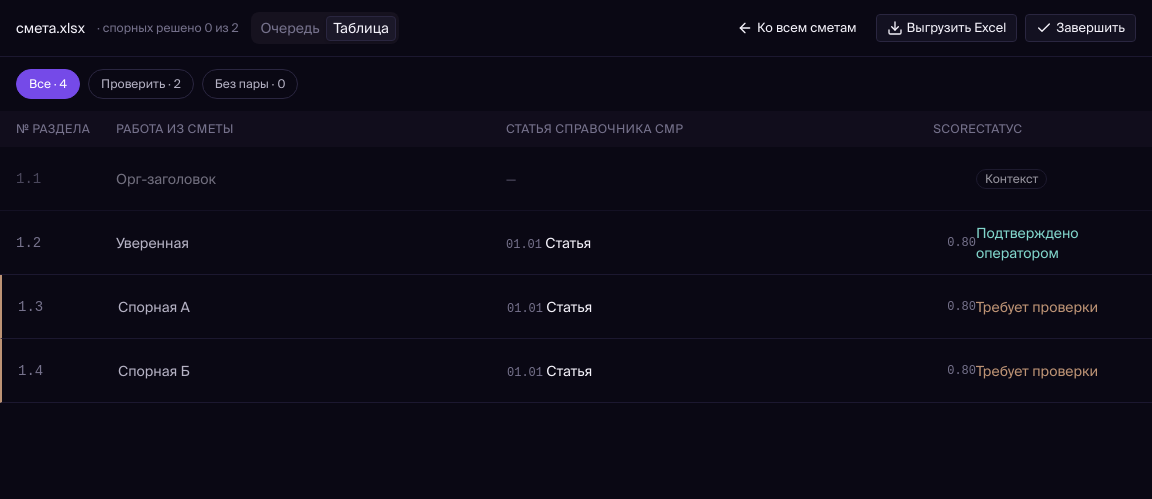
Scenario: грид ↔ очередь › клик по строке грида открывает карточку этой строки (включая confident)
Click the text "Уверенная" at (152, 242), box x1=116 y1=234 x2=189 y2=250
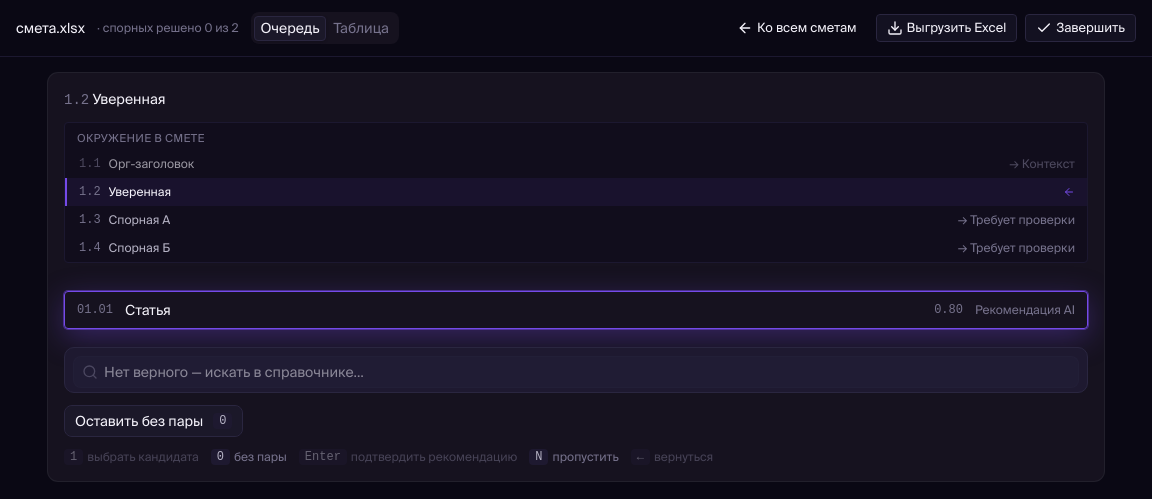
Expected: the 1st text "Уверенная" is shown, x1=92 y1=91 x2=166 y2=107
